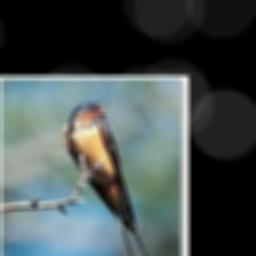Swallow: (63, 101, 149, 256)
